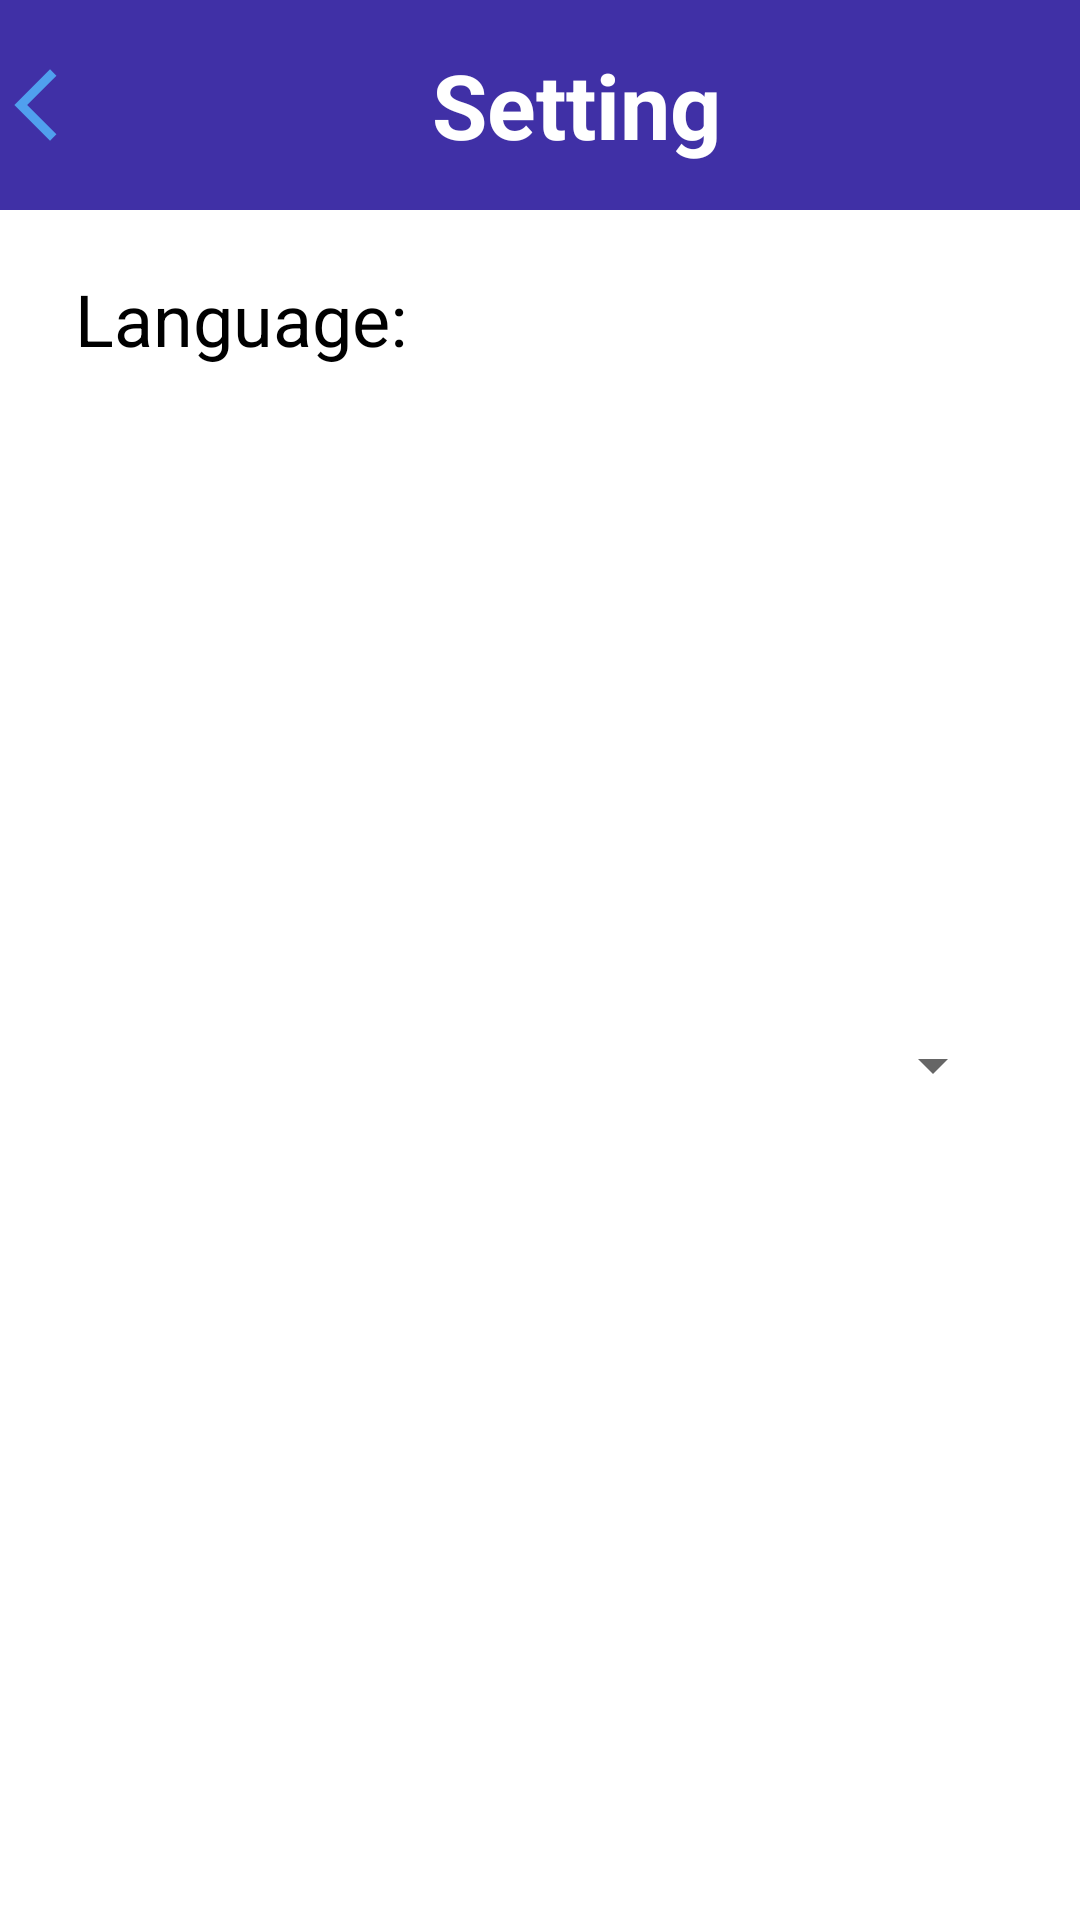

Named icons in this screenshot (1080 × 1920) and their centers, point (x, y):
back: point (35, 105)
